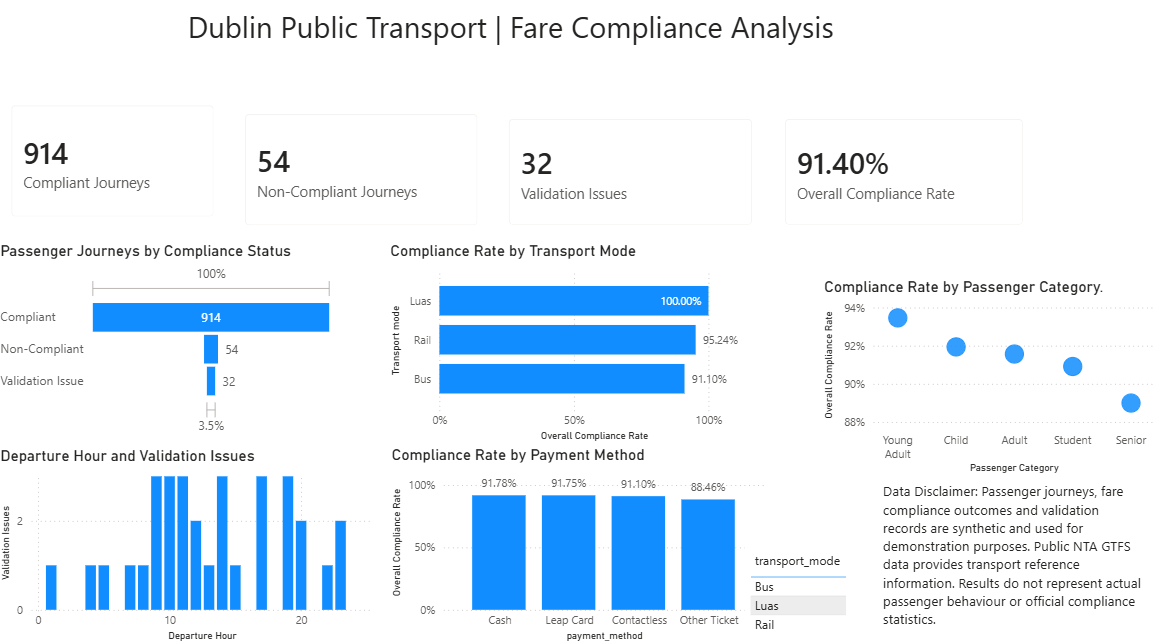

The page's visual inventory and layout, read from the dashboard file:
{"tool":"powerbi","page":{"name":"Fare Compliance Analysis","canvas":[1280,720],"ordinal":1},"visuals":[{"type":"funnel","title":"Passenger Journeys by Compliance Status","fields":{"Category":["gold_passenger_journeys.compliance_status"],"Y":["CountNonNull(gold_passenger_journeys.journey_id)"]},"box":[0,275.8,376,218.2],"z":0},{"type":"cardVisual","title":"Compliant Journeys","fields":{"Data":["Sum(gold_passenger_category_summary.compliant_journeys)"]},"box":[0,109.8,256.6,156.4],"z":1000},{"type":"cardVisual","title":"Non-Compliant Journeys","fields":{"Data":["Sum(gold_passenger_category_summary.non_compliant_journeys)"]},"box":[256.6,119.4,289.5,156.4],"z":2000},{"type":"cardVisual","title":"Validation Issues","fields":{"Data":["Sum(gold_passenger_category_summary.validation_issue_journeys)"]},"box":[546.1,124.9,301.9,150.9],"z":3000},{"type":"cardVisual","title":"Overall Compliance Rate","fields":{"Data":["gold_passenger_journeys.Overall Compliance Rate"]},"box":[849.4,124.9,295,150.9],"z":4000},{"type":"clusteredBarChart","title":"Compliance Rate by Transport Mode","fields":{"Category":["gold_passenger_journeys.transport_mode"],"Y":["gold_passenger_journeys.Overall Compliance Rate"]},"box":[428.1,275.8,419.9,225],"z":5000},{"type":"scatterChart","title":"Compliance Rate by Passenger Category.","fields":{"Y":["gold_passenger_journeys.Overall Compliance Rate"],"X":["gold_passenger_journeys.passenger_category"]},"box":[904.3,315.6,376,219.6],"z":6000},{"type":"columnChart","title":"Departure Hour and Validation Issues","fields":{"Category":["gold_passenger_journeys.departure_hour"],"Y":["CountNonNull(gold_passenger_journeys.journey_id)"]},"box":[0,500.9,419.9,219.6],"z":7000},{"type":"columnChart","title":"Compliance Rate by Payment Method","fields":{"Category":["gold_passenger_journeys.payment_method"],"Y":["gold_passenger_journeys.Overall Compliance Rate"]},"box":[429.5,499.5,419.9,220.9],"z":8000},{"type":"tableEx","fields":{"Values":["gold_passenger_journeys.transport_mode"]},"box":[822,610.6,146.8,109.8],"z":9000},{"type":"textbox","box":[968.8,535.2,299.1,185.2],"z":10000},{"type":"textbox","box":[188,13.7,930.4,63.1],"z":11000}]}

Visuals, with their boxes in screenshot pixels (x1, y1, x2, y2), scaled from the page's 1280x720 canvas onto the 1157x642 screenshot:
"Passenger Journeys by Compliance Status" funnel: detection(0, 246, 340, 440)
"Compliant Journeys" cardVisual: detection(0, 98, 232, 237)
"Non-Compliant Journeys" cardVisual: detection(232, 106, 494, 246)
"Validation Issues" cardVisual: detection(494, 111, 767, 246)
"Overall Compliance Rate" cardVisual: detection(768, 111, 1034, 246)
"Compliance Rate by Transport Mode" clusteredBarChart: detection(387, 246, 767, 447)
"Compliance Rate by Passenger Category." scatterChart: detection(817, 281, 1156, 477)
"Departure Hour and Validation Issues" columnChart: detection(0, 447, 380, 641)
"Compliance Rate by Payment Method" columnChart: detection(388, 445, 768, 641)
tableEx - gold_passenger_journeys.transport_mode: detection(743, 544, 876, 641)
textbox: detection(876, 477, 1146, 641)
textbox: detection(170, 12, 1011, 68)
